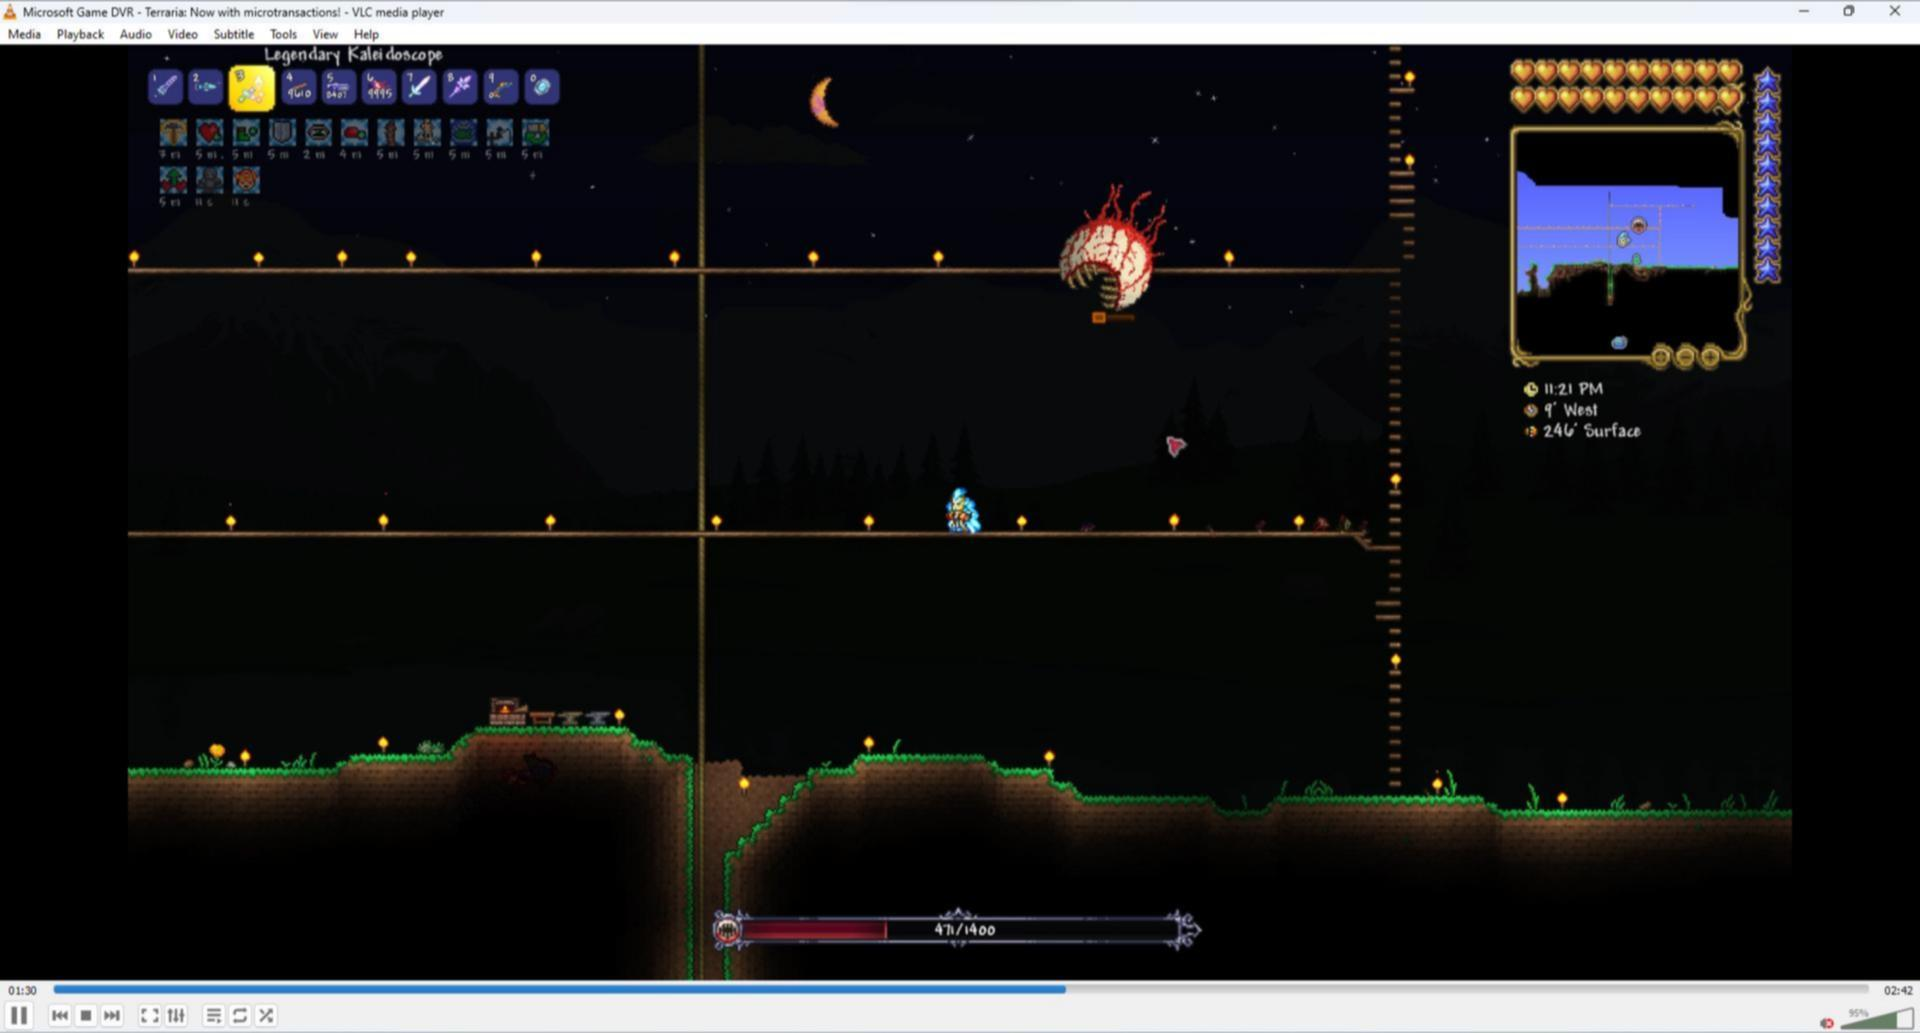anvil: (584, 705, 613, 731), (556, 706, 582, 726)
eyeC: (1058, 182, 1177, 327)
